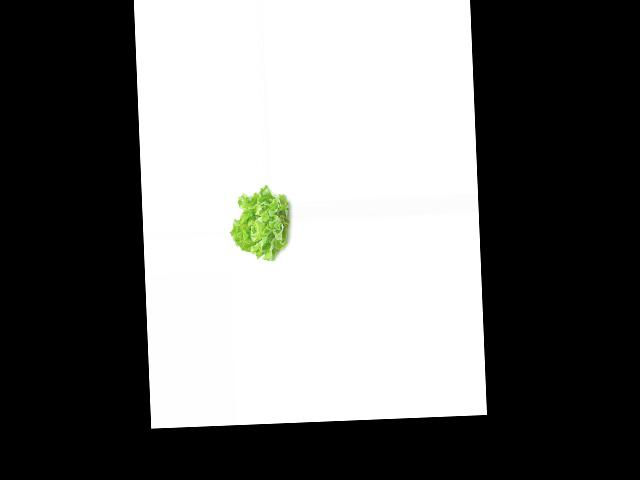lettuce: (228, 185, 293, 261)
